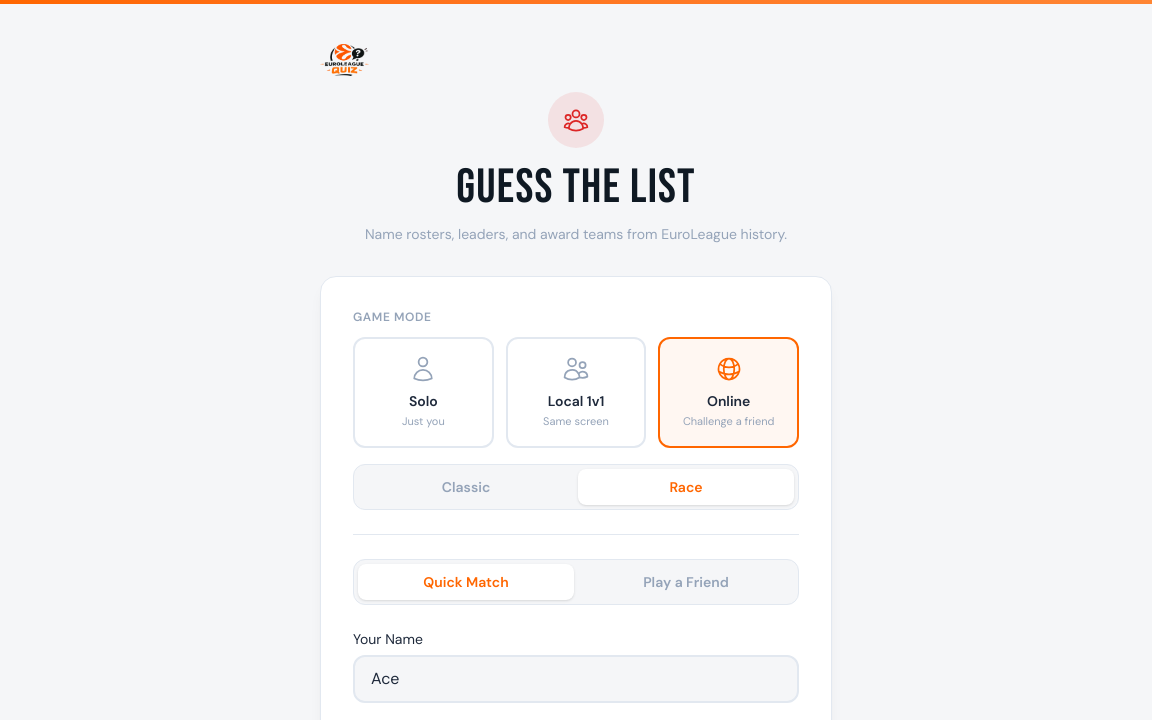
Scenario: GuessTheListSetup › captions Race friend create options with Season Range and Race length sections
The image size is (1152, 720).
Click the button "Play a Friend": (686,582) [578, 564, 794, 600]
(page scrolled)
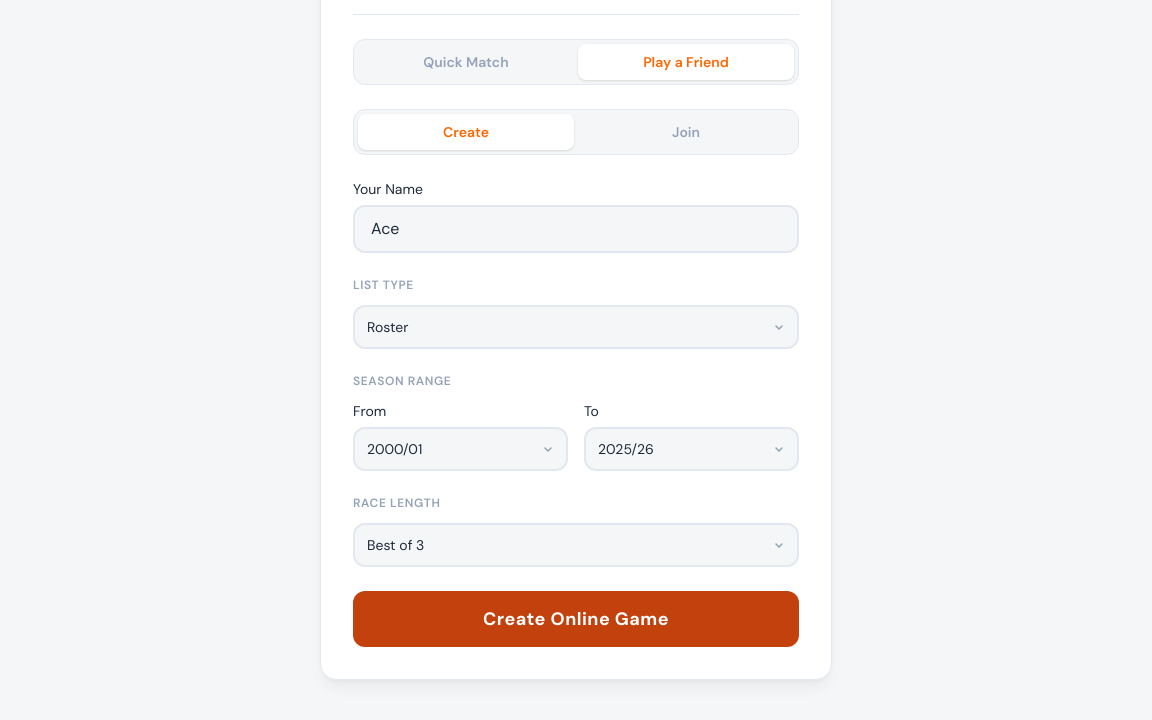
Result: the text "Season Range" is shown at [353, 372, 451, 388]
Result: the text "Race length" is shown at [353, 494, 440, 510]
